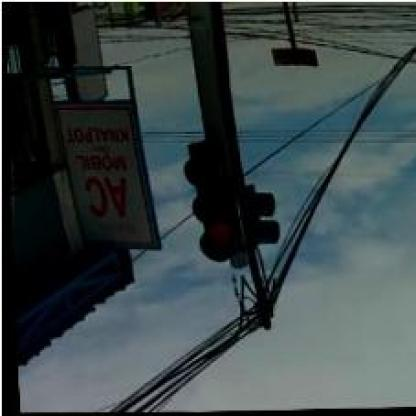red: (178, 135, 244, 265)
